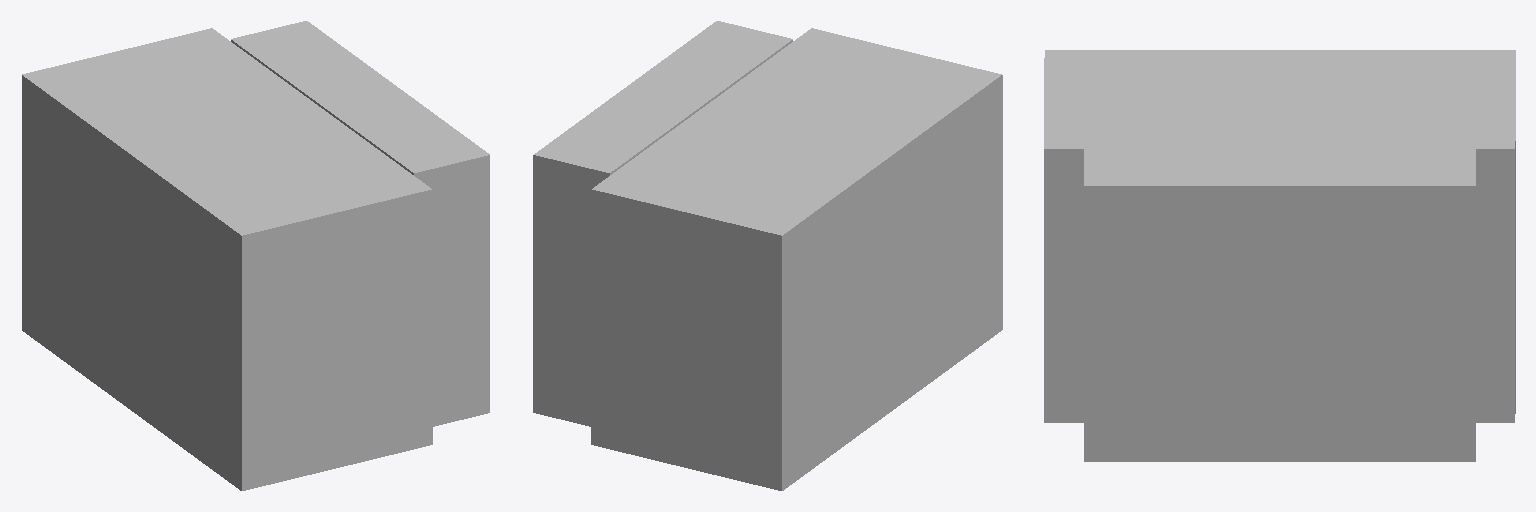
The robot description file, URDF, robot "ur10_robot":
<?xml version="1.0" encoding="utf-8"?>
<!-- =================================================================================== -->
<!-- |    This document was autogenerated by xacro from ur10_cobotsA.xacro             | -->
<!-- |    EDITING THIS FILE BY HAND IS NOT RECOMMENDED                                 | -->
<!-- =================================================================================== -->
<robot name="ur10_robot">
  <!--
    This is a convenience top-level xacro which loads the macro for the UR10
    which defines the default values for the various "parameters files"
    parameters for a UR10.

    This file is only useful when loading a stand-alone, completely isolated
    robot with only default values for all parameters such as the kinematics,
    visual and physical parameters and joint limits.

    This file is not intended to be integrated into a larger scene or other
    composite xacro.

    Instead, xacro:include 'inc/ur10_macro.xacro' and override the defaults
    for the arguments to that macro.

    Refer to 'inc/ur_macro.xacro' for more information.
  -->
  <link name="world"/>
  <link name="table">
    <visual>
      <geometry>
        <mesh filename="package://myur10_description/meshes/table/visual/table.dae"/>
      </geometry>
      <material name="grey"/>
    </visual>
    <collision>
      <geometry>
        <mesh filename="package://myur10_description/meshes/table/collision/table.obj"/>
      </geometry>
    </collision>
  </link>
  <joint name="table_joint" type="fixed">
    <parent link="world"/>
    <child link="table"/>
    <origin rpy="0.0 0.0 3.1415" xyz="-0.42 0.0 -0.39"/>
  </joint>
  <material name="grey">
    <color rgba="0.8 0.8 0.8 1"/>
  </material>
  <joint name="world_joint" type="fixed">
    <parent link="world"/>
    <child link="base_link"/>
    <origin rpy="0.0 0.0 1.5707" xyz="0.0 0.0 0.0"/>
  </joint>
  <material name="aluminum">
    <color rgba="0.5 0.5 0.5 1"/>
  </material>
  <material name="plastic">
    <color rgba="0.1 0.1 0.1 1"/>
  </material>
  <!--
    Base UR robot series xacro macro.

    NOTE: this is NOT a URDF. It cannot directly be loaded by consumers
    expecting a flattened '.urdf' file. See the top-level '.xacro' for that
    (but note: that .xacro must still be processed by the xacro command).

    For use in '.launch' files: use one of the 'load_urX.launch' convenience
    launch files.

    This file models the base kinematic chain of a UR robot, which then gets
    parameterised by various configuration files to convert it into a UR3(e),
    UR5(e), UR10(e) or UR16e.

    NOTE: the default kinematic parameters (ie: link lengths, frame locations,
    offets, etc) do not correspond to any particular robot. They are defaults
    only. There WILL be non-zero offsets between the Forward Kinematics results
    in TF (ie: robot_state_publisher) and the values reported by the Teach
    Pendant.

    For accurate (and robot-specific) transforms, the 'kinematics_parameters_file'
    parameter MUST point to a .yaml file containing the appropriate values for
    the targetted robot.

    If using the UniversalRobots/Universal_Robots_ROS_Driver, follow the steps
    described in the readme of that repository to extract the kinematic
    calibration from the controller and generate the required .yaml file.

    Main author of the migration to yaml configs: [author].

    Contributors to previous versions (in no particular order):

     - [author]
     - [author]
     - [author]
     - [author]
     - [author]
     - [author]
     - [author]
     - [author]
     - [author]
     - [author]
     - [author]
     - [author]
     - [author]
     - [author]
     - [author]
     - [author]
     - [author]
  -->
  <!--
    NOTE: the macro defined in this file is NOT part of the public API of this
          package. Users CANNOT rely on this file being available, or stored in
          this location. Nor can they rely on the existence of the macro.
  -->
  <transmission name="shoulder_pan_trans">
    <type>transmission_interface/SimpleTransmission</type>
    <joint name="shoulder_pan_joint">
      <hardwareInterface>hardware_interface/PositionJointInterface</hardwareInterface>
    </joint>
    <actuator name="shoulder_pan_motor">
      <mechanicalReduction>1</mechanicalReduction>
    </actuator>
  </transmission>
  <transmission name="shoulder_lift_trans">
    <type>transmission_interface/SimpleTransmission</type>
    <joint name="shoulder_lift_joint">
      <hardwareInterface>hardware_interface/PositionJointInterface</hardwareInterface>
    </joint>
    <actuator name="shoulder_lift_motor">
      <mechanicalReduction>1</mechanicalReduction>
    </actuator>
  </transmission>
  <transmission name="elbow_trans">
    <type>transmission_interface/SimpleTransmission</type>
    <joint name="elbow_joint">
      <hardwareInterface>hardware_interface/PositionJointInterface</hardwareInterface>
    </joint>
    <actuator name="elbow_motor">
      <mechanicalReduction>1</mechanicalReduction>
    </actuator>
  </transmission>
  <transmission name="wrist_1_trans">
    <type>transmission_interface/SimpleTransmission</type>
    <joint name="wrist_1_joint">
      <hardwareInterface>hardware_interface/PositionJointInterface</hardwareInterface>
    </joint>
    <actuator name="wrist_1_motor">
      <mechanicalReduction>1</mechanicalReduction>
    </actuator>
  </transmission>
  <transmission name="wrist_2_trans">
    <type>transmission_interface/SimpleTransmission</type>
    <joint name="wrist_2_joint">
      <hardwareInterface>hardware_interface/PositionJointInterface</hardwareInterface>
    </joint>
    <actuator name="wrist_2_motor">
      <mechanicalReduction>1</mechanicalReduction>
    </actuator>
  </transmission>
  <transmission name="wrist_3_trans">
    <type>transmission_interface/SimpleTransmission</type>
    <joint name="wrist_3_joint">
      <hardwareInterface>hardware_interface/PositionJointInterface</hardwareInterface>
    </joint>
    <actuator name="wrist_3_motor">
      <mechanicalReduction>1</mechanicalReduction>
    </actuator>
  </transmission>
  <!-- links: main serial chain -->
  <link name="base_link"/>
  <link name="base_link_inertia">
    <visual>
      <origin rpy="0 0 3.14159265359" xyz="0 0 0"/>
      <geometry>
        <mesh filename="package://ur_description/meshes/ur10/visual/base.dae"/>
      </geometry>
      <material name="LightGrey">
        <color rgba="0.7 0.7 0.7 1.0"/>
      </material>
    </visual>
    <collision>
      <origin rpy="0 0 3.14159265359" xyz="0 0 0"/>
      <geometry>
        <mesh filename="package://ur_description/meshes/ur10/collision/base.stl"/>
      </geometry>
    </collision>
    <inertial>
      <mass value="4.0"/>
      <origin rpy="0 0 0" xyz="0 0 0"/>
      <inertia ixx="0.0061063308908" ixy="0.0" ixz="0.0" iyy="0.0061063308908" iyz="0.0" izz="0.01125"/>
    </inertial>
  </link>
  <link name="shoulder_link">
    <visual>
      <origin rpy="0 0 3.14159265359" xyz="0 0 0"/>
      <geometry>
        <mesh filename="package://ur_description/meshes/ur10/visual/shoulder.dae"/>
      </geometry>
      <material name="LightGrey">
        <color rgba="0.7 0.7 0.7 1.0"/>
      </material>
    </visual>
    <collision>
      <origin rpy="0 0 3.14159265359" xyz="0 0 0"/>
      <geometry>
        <mesh filename="package://ur_description/meshes/ur10/collision/shoulder.stl"/>
      </geometry>
    </collision>
    <inertial>
      <mass value="7.778"/>
      <origin rpy="0 0 0" xyz="0 0 0"/>
      <inertia ixx="0.0314743125769" ixy="0.0" ixz="0.0" iyy="0.0314743125769" iyz="0.0" izz="0.021875625"/>
    </inertial>
  </link>
  <link name="upper_arm_link">
    <visual>
      <origin rpy="1.57079632679 0 -1.57079632679" xyz="0 0 0.220941"/>
      <geometry>
        <mesh filename="package://ur_description/meshes/ur10/visual/upperarm.dae"/>
      </geometry>
      <material name="LightGrey">
        <color rgba="0.7 0.7 0.7 1.0"/>
      </material>
    </visual>
    <collision>
      <origin rpy="1.57079632679 0 -1.57079632679" xyz="0 0 0.220941"/>
      <geometry>
        <mesh filename="package://ur_description/meshes/ur10/collision/upperarm.stl"/>
      </geometry>
    </collision>
    <inertial>
      <mass value="12.93"/>
      <origin rpy="0 1.57079632679 0" xyz="-0.306 0.0 0.175"/>
      <inertia ixx="0.421753803798" ixy="0.0" ixz="0.0" iyy="0.421753803798" iyz="0.0" izz="0.036365625"/>
    </inertial>
  </link>
  <link name="forearm_link">
    <visual>
      <origin rpy="1.57079632679 0 -1.57079632679" xyz="0 0 0.049042"/>
      <geometry>
        <mesh filename="package://ur_description/meshes/ur10/visual/forearm.dae"/>
      </geometry>
      <material name="LightGrey">
        <color rgba="0.7 0.7 0.7 1.0"/>
      </material>
    </visual>
    <collision>
      <origin rpy="1.57079632679 0 -1.57079632679" xyz="0 0 0.049042"/>
      <geometry>
        <mesh filename="package://ur_description/meshes/ur10/collision/forearm.stl"/>
      </geometry>
    </collision>
    <inertial>
      <mass value="3.87"/>
      <origin rpy="0 1.57079632679 0" xyz="-0.28615 0.0 0.049042"/>
      <inertia ixx="0.111069694097" ixy="0.0" ixz="0.0" iyy="0.111069694097" iyz="0.0" izz="0.010884375"/>
    </inertial>
  </link>
  <link name="wrist_1_link">
    <visual>
      <!-- TODO: Move this to a parameter -->
      <origin rpy="1.57079632679 0 0" xyz="0 0 -0.1149"/>
      <geometry>
        <mesh filename="package://ur_description/meshes/ur10/visual/wrist1.dae"/>
      </geometry>
      <material name="LightGrey">
        <color rgba="0.7 0.7 0.7 1.0"/>
      </material>
    </visual>
    <collision>
      <origin rpy="1.57079632679 0 0" xyz="0 0 -0.1149"/>
      <geometry>
        <mesh filename="package://ur_description/meshes/ur10/collision/wrist1.stl"/>
      </geometry>
    </collision>
    <inertial>
      <mass value="1.96"/>
      <origin rpy="0 0 0" xyz="0 0 0"/>
      <inertia ixx="0.0051082479567" ixy="0.0" ixz="0.0" iyy="0.0051082479567" iyz="0.0" izz="0.0055125"/>
    </inertial>
  </link>
  <link name="wrist_2_link">
    <visual>
      <origin rpy="0 0 0" xyz="0 0 -0.1158"/>
      <geometry>
        <mesh filename="package://ur_description/meshes/ur10/visual/wrist2.dae"/>
      </geometry>
      <material name="LightGrey">
        <color rgba="0.7 0.7 0.7 1.0"/>
      </material>
    </visual>
    <collision>
      <origin rpy="0 0 0" xyz="0 0 -0.1158"/>
      <geometry>
        <mesh filename="package://ur_description/meshes/ur10/collision/wrist2.stl"/>
      </geometry>
    </collision>
    <inertial>
      <mass value="1.96"/>
      <origin rpy="0 0 0" xyz="0 0 0"/>
      <inertia ixx="0.0040792483683" ixy="0.0" ixz="0.0" iyy="0.0040792483683" iyz="0.0" izz="0.0055125"/>
    </inertial>
  </link>
  <link name="wrist_3_link">
    <visual>
      <origin rpy="1.57079632679 0 0" xyz="0 0 -0.0922"/>
      <geometry>
        <mesh filename="package://ur_description/meshes/ur10/visual/wrist3.dae"/>
      </geometry>
      <material name="LightGrey">
        <color rgba="0.7 0.7 0.7 1.0"/>
      </material>
    </visual>
    <collision>
      <origin rpy="1.57079632679 0 0" xyz="0 0 -0.0922"/>
      <geometry>
        <mesh filename="package://ur_description/meshes/ur10/collision/wrist3.stl"/>
      </geometry>
    </collision>
    <inertial>
      <mass value="0.202"/>
      <origin rpy="0 0 0" xyz="0.0 0.0 -0.01525"/>
      <inertia ixx="0.000117921661165" ixy="0.0" ixz="0.0" iyy="0.000117921661165" iyz="0.0" izz="0.000204525"/>
    </inertial>
  </link>
  <!-- joints: main serial chain -->
  <joint name="base_link-base_link_inertia" type="fixed">
    <parent link="base_link"/>
    <child link="base_link_inertia"/>
    <!-- 'base_link' is REP-103 aligned (so X+ forward), while the internal
           frames of the robot/controller have X+ pointing backwards.
           Use the joint between 'base_link' and 'base_link_inertia' (a dummy
           link/frame) to introduce the necessary rotation over Z (of pi rad).
      -->
    <origin rpy="0 0 3.14159265359" xyz="0 0 0"/>
  </joint>
  <joint name="shoulder_pan_joint" type="revolute">
    <parent link="base_link_inertia"/>
    <child link="shoulder_link"/>
    <origin rpy="0 0 0" xyz="0 0 0.1273"/>
    <axis xyz="0 0 1"/>
    <limit effort="330.0" lower="-6.28318530718" upper="6.28318530718" velocity="2.09439510239"/>
    <dynamics damping="0" friction="0"/>
  </joint>
  <joint name="shoulder_lift_joint" type="revolute">
    <parent link="shoulder_link"/>
    <child link="upper_arm_link"/>
    <origin rpy="1.570796327 0 0" xyz="0 0 0"/>
    <axis xyz="0 0 1"/>
    <limit effort="330.0" lower="-6.28318530718" upper="6.28318530718" velocity="2.09439510239"/>
    <dynamics damping="0" friction="0"/>
  </joint>
  <joint name="elbow_joint" type="revolute">
    <parent link="upper_arm_link"/>
    <child link="forearm_link"/>
    <origin rpy="0 0 0" xyz="-0.612 0 0"/>
    <axis xyz="0 0 1"/>
    <limit effort="150.0" lower="-3.14159265359" upper="3.14159265359" velocity="3.14159265359"/>
    <dynamics damping="0" friction="0"/>
  </joint>
  <joint name="wrist_1_joint" type="revolute">
    <parent link="forearm_link"/>
    <child link="wrist_1_link"/>
    <origin rpy="0 0 0" xyz="-0.5723 0 0.163941"/>
    <axis xyz="0 0 1"/>
    <limit effort="56.0" lower="-6.28318530718" upper="6.28318530718" velocity="3.14159265359"/>
    <dynamics damping="0" friction="0"/>
  </joint>
  <joint name="wrist_2_joint" type="revolute">
    <parent link="wrist_1_link"/>
    <child link="wrist_2_link"/>
    <origin rpy="1.570796327 0 0" xyz="0 -0.1157 -2.37304666792e-11"/>
    <axis xyz="0 0 1"/>
    <limit effort="56.0" lower="-6.28318530718" upper="6.28318530718" velocity="3.14159265359"/>
    <dynamics damping="0" friction="0"/>
  </joint>
  <joint name="wrist_3_joint" type="revolute">
    <parent link="wrist_2_link"/>
    <child link="wrist_3_link"/>
    <origin rpy="1.57079632659 3.14159265359 3.14159265359" xyz="0 0.0922 -1.89105361091e-11"/>
    <axis xyz="0 0 1"/>
    <limit effort="56.0" lower="-6.28318530718" upper="6.28318530718" velocity="3.14159265359"/>
    <dynamics damping="0" friction="0"/>
  </joint>
  <!-- ROS-Industrial 'base' frame: base_link to UR 'Base' Coordinates transform -->
  <link name="base"/>
  <joint name="base_link-base_fixed_joint" type="fixed">
    <!-- Note the rotation over Z of pi radians: as base_link is REP-103
           aligned (ie: has X+ forward, Y+ left and Z+ up), this is needed
           to correctly align 'base' with the 'Base' coordinate system of
           the UR controller.
      -->
    <origin rpy="0 0 3.14159265359" xyz="0 0 0"/>
    <parent link="base_link"/>
    <child link="base"/>
  </joint>
  <!-- ROS-Industrial 'flange' frame: attachment point for EEF models -->
  <link name="flange"/>
  <joint name="wrist_3-flange" type="fixed">
    <parent link="wrist_3_link"/>
    <child link="flange"/>
    <origin rpy="0 -1.57079632679 -1.57079632679" xyz="0 0 0"/>
  </joint>
  <!-- ROS-Industrial 'tool0' frame: all-zeros tool frame -->
  <link name="tool0"/>
  <joint name="flange-tool0" type="fixed">
    <!-- default toolframe: X+ left, Y+ up, Z+ front -->
    <origin rpy="1.57079632679 0 1.57079632679" xyz="0 0 0"/>
    <parent link="flange"/>
    <child link="tool0"/>
  </joint>
  <!-- camera body, with origin at bottom screw mount -->
  <joint name="camera_joint" type="fixed">
    <origin rpy="0 -1.5707 1.5707" xyz="0 -0.046 -0.08"/>
    <parent link="wrist_3_link"/>
    <child link="camera_bottom_screw_frame"/>
  </joint>
  <link name="camera_bottom_screw_frame"/>
  <joint name="camera_link_joint" type="fixed">
    <origin rpy="0 0 0" xyz="0.0106 0.0175 0.0125"/>
    <parent link="camera_bottom_screw_frame"/>
    <child link="camera_link"/>
  </joint>
  <link name="camera_link">
    <visual>
      <!-- the mesh origin is at front plate in between the two infrared camera axes -->
      <origin rpy="1.57079632679 0 1.57079632679" xyz="0.0043 -0.0175 0"/>
      <geometry>
        <mesh filename="package://realsense2_description/meshes/d435.dae"/>
      </geometry>
    </visual>
    <collision>
      <origin rpy="0 0 0" xyz="0 -0.0175 0"/>
      <geometry>
        <box size="0.02505 0.09 0.025"/>
      </geometry>
    </collision>
    <inertial>
      <!-- The following are not reliable values, and should not be used for modeling -->
      <mass value="0.072"/>
      <origin xyz="0 0 0"/>
      <inertia ixx="0.003881243" ixy="0.0" ixz="0.0" iyy="0.000498940" iyz="0.0" izz="0.003879257"/>
    </inertial>
  </link>
</robot>

--- Facts derived from the render (not from the file) ---
Views: 3 orthographic renders of the robot side by side, from view 1: azimuth 30°, elevation 25°; view 2: azimuth 150°, elevation 25°; view 3: azimuth 270°, elevation 25°.
Robot: ur10_robot — 15 links, 14 joints (6 revolute, 8 fixed); root link world; default pose: all joints at 0.
Links seen in each view (by area): view 1: table; view 2: table; view 3: table.
Boxes of the visible links, <box> form: table: <box>22,21,489,490</box>; table: <box>533,21,1002,490</box>; table: <box>1044,50,1515,461</box>.
Size in the robot's own frame: 0.8401 by 1.2 by 0.7756 metres.
1 mesh visuals loaded from 9 distinct referenced files (1 Collada DAE); not drawn: 8 (reference not matched to a file when rendering).